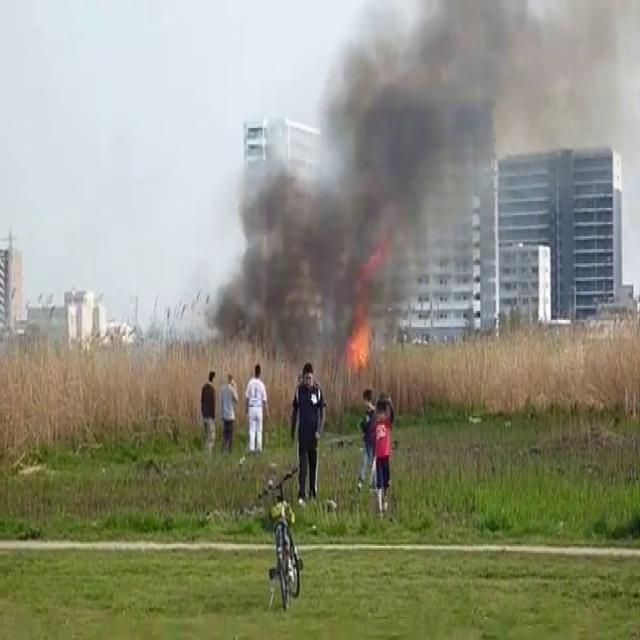Fire: (343, 301, 378, 378)
Smoke: (210, 0, 640, 347)
